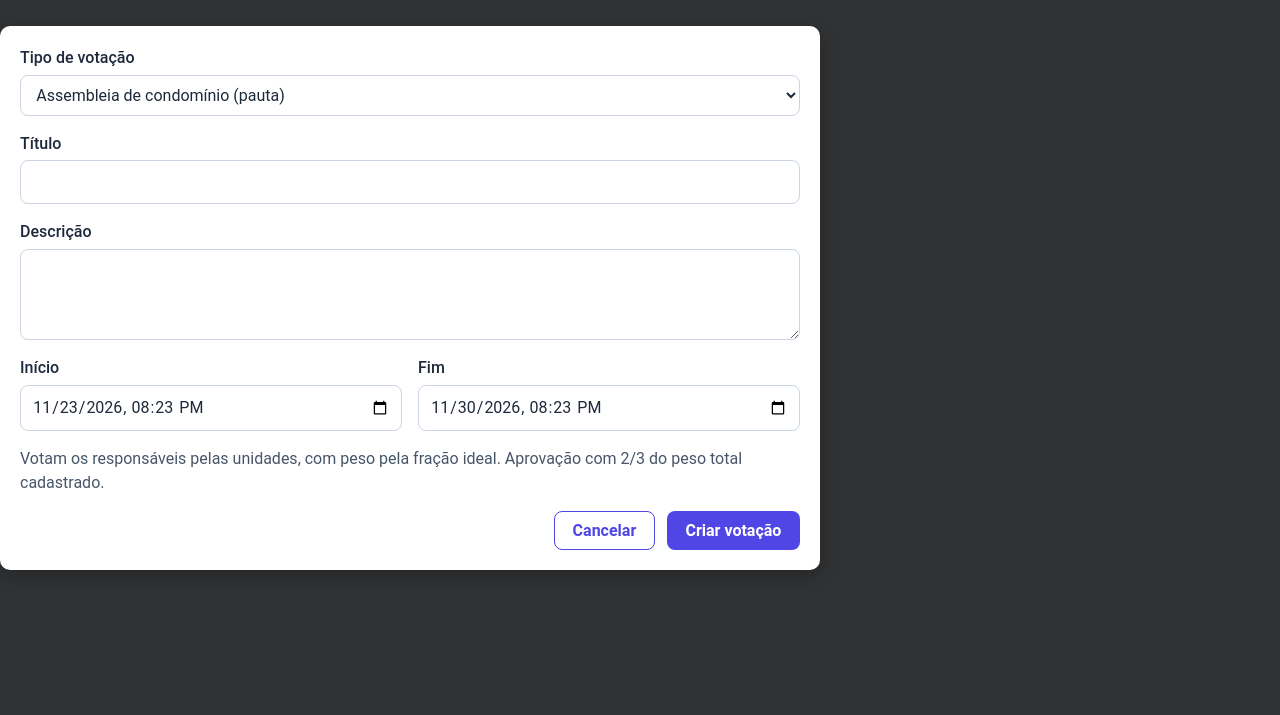
Test case: Admin: nova votação › adiciona e remove opções, mantendo no mínimo duas
The image size is (1280, 715).
Step 1. Select "Eleição do CA (chapas)" in the dropdown labelled "Tipo de votação" → [410, 95], box [20,75,800,116]
(page scrolled)
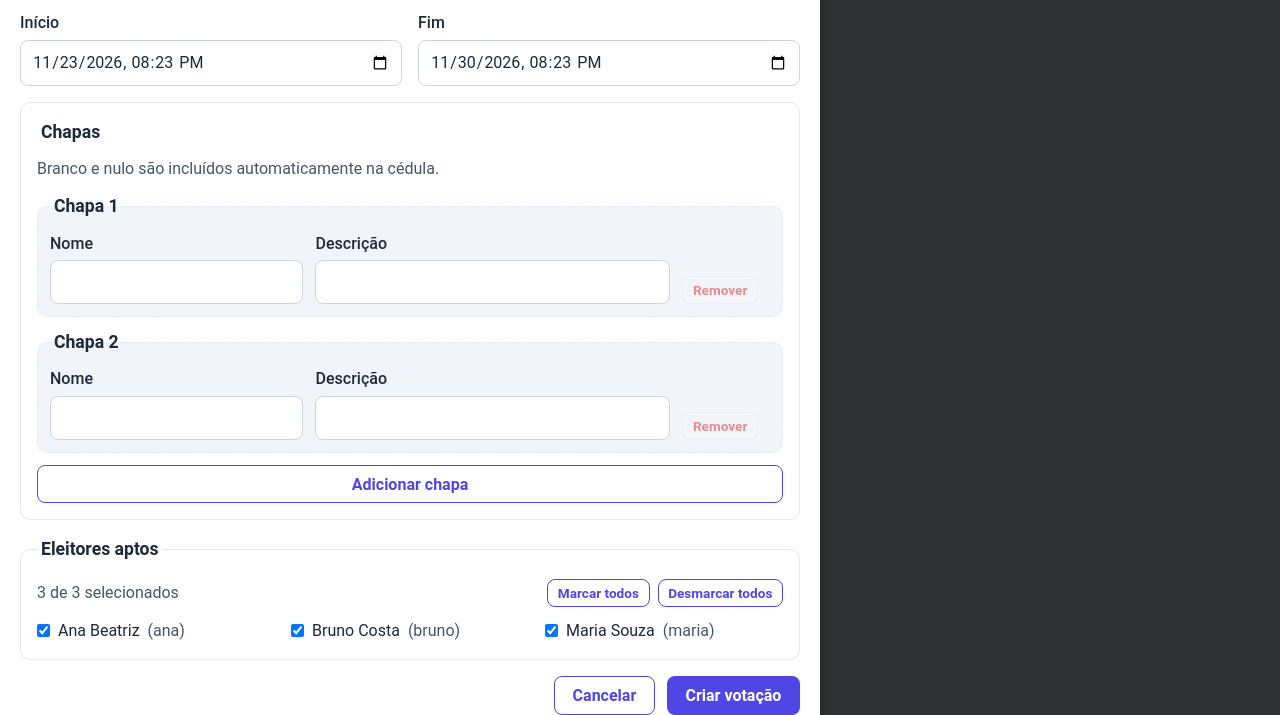
expect the button with aria-label "Remover Chapa 1" is disabled: met, box [682,276,758,304]
Step 2. Click the button "Adicionar chapa" → [410, 484], box [37,465,783,504]
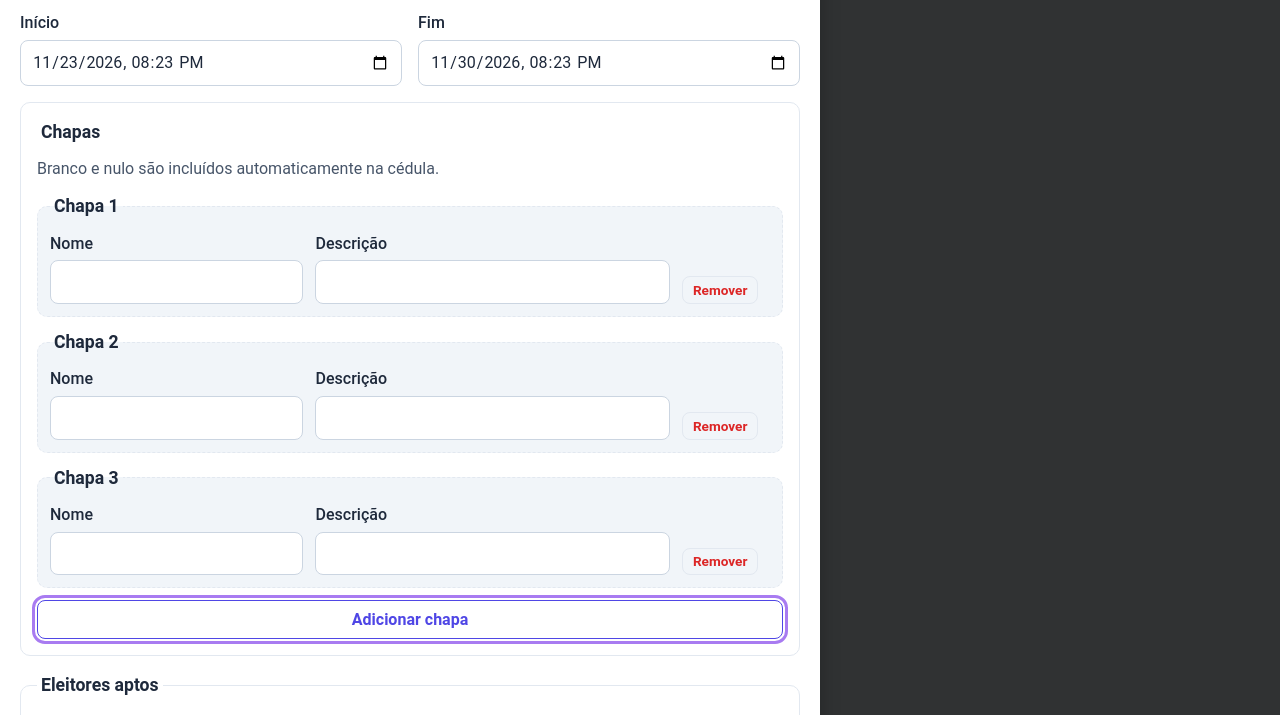
expect the element "Chapa 3" is shown: met, box [37,465,783,588]
Step 3. Click the button with aria-label "Remover Chapa 1" → [720, 290], box [682,276,758,304]
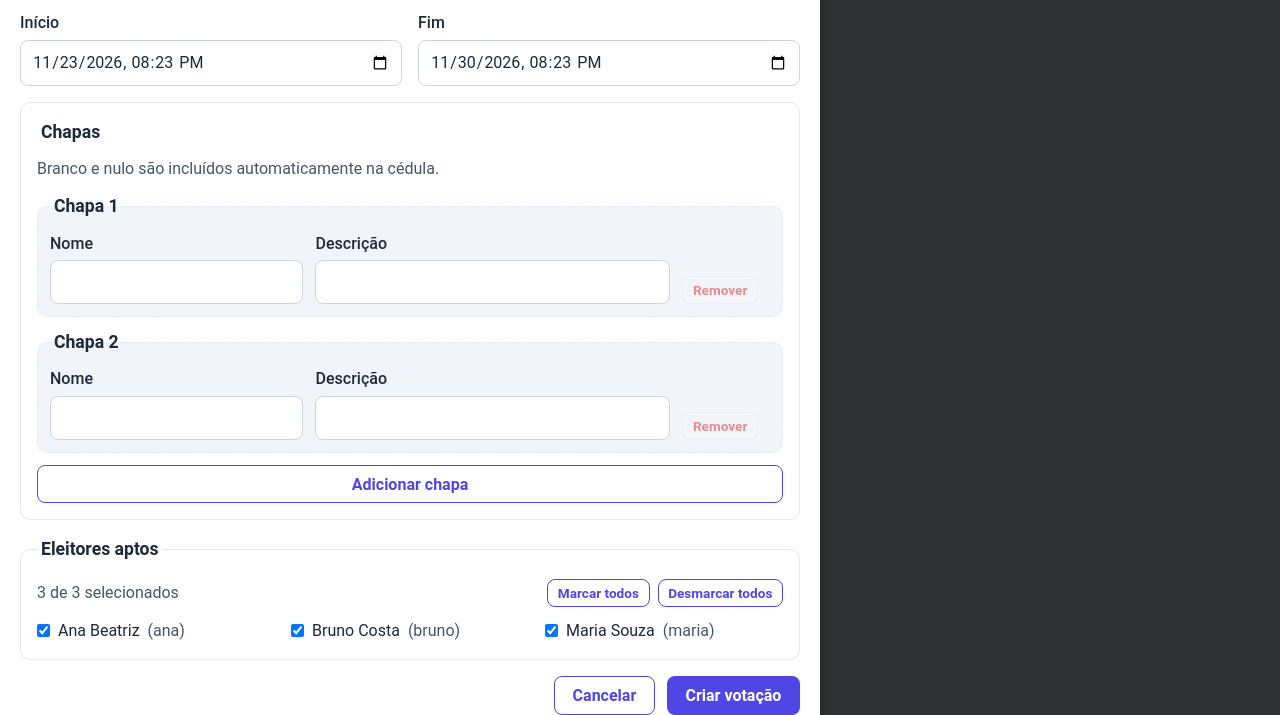
expect the text "Chapa 3" is gone: met
expect the number of elements "Chapa 1 Nome Descrição Remover" is 2: met, box [37,193,783,317]; [37,329,783,453]
